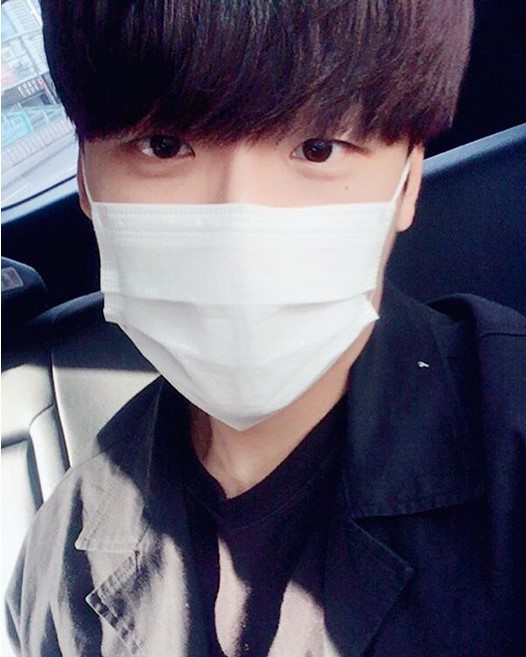face_with_mask: (70, 7, 423, 427)
